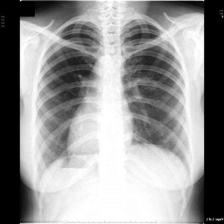tuberculosis: (28, 10, 195, 184)
